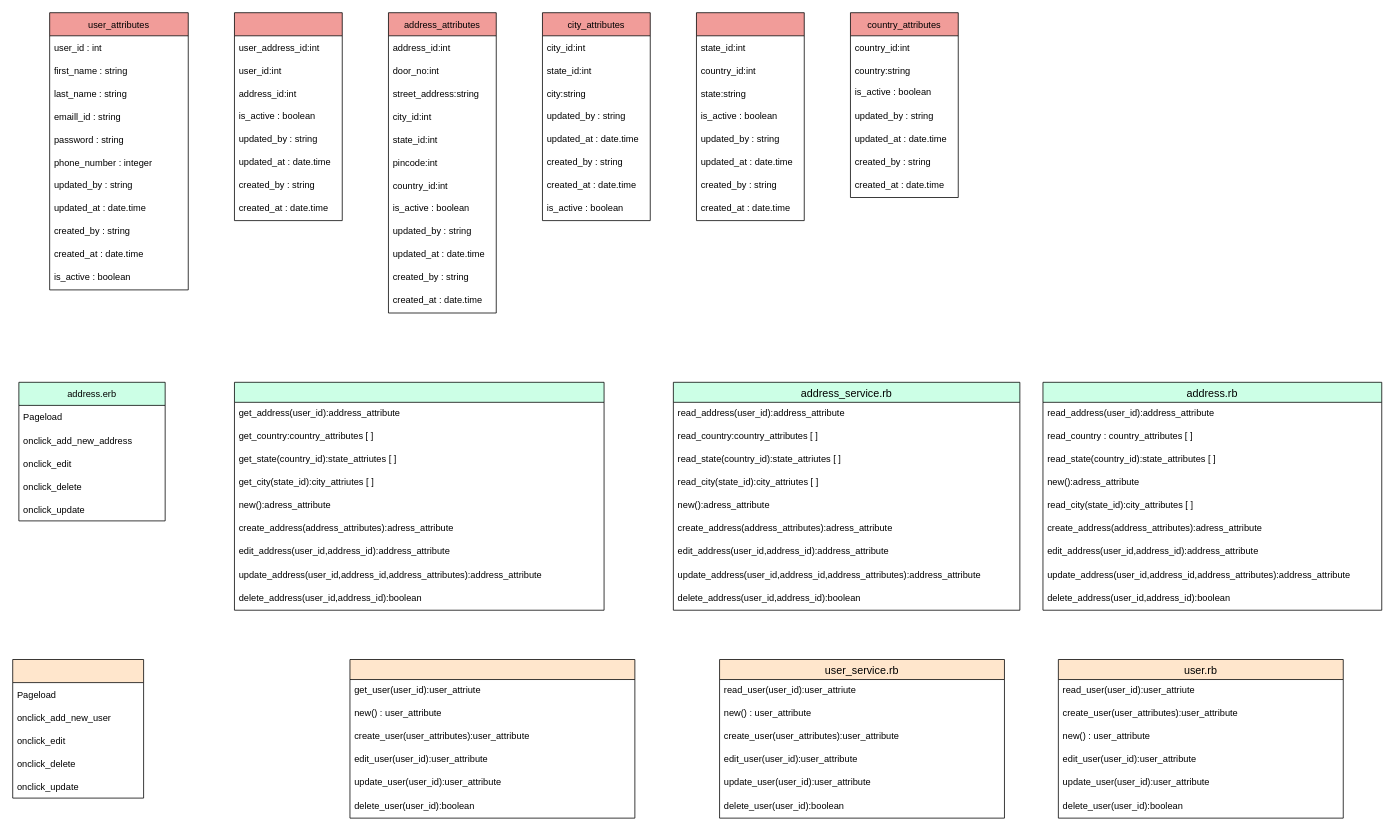
Image size: 1394x831. Some labels were removed from this diagram. The box of each missing label's shape, as (x1, y1, x2, y2) in pixels:
address_controller.rb: (234, 382, 604, 610)
state_attributes: (696, 12, 804, 221)
user.erb: (12, 659, 144, 798)
user_address_attributes: (234, 12, 342, 221)
user_controller.rb: (349, 659, 635, 818)
